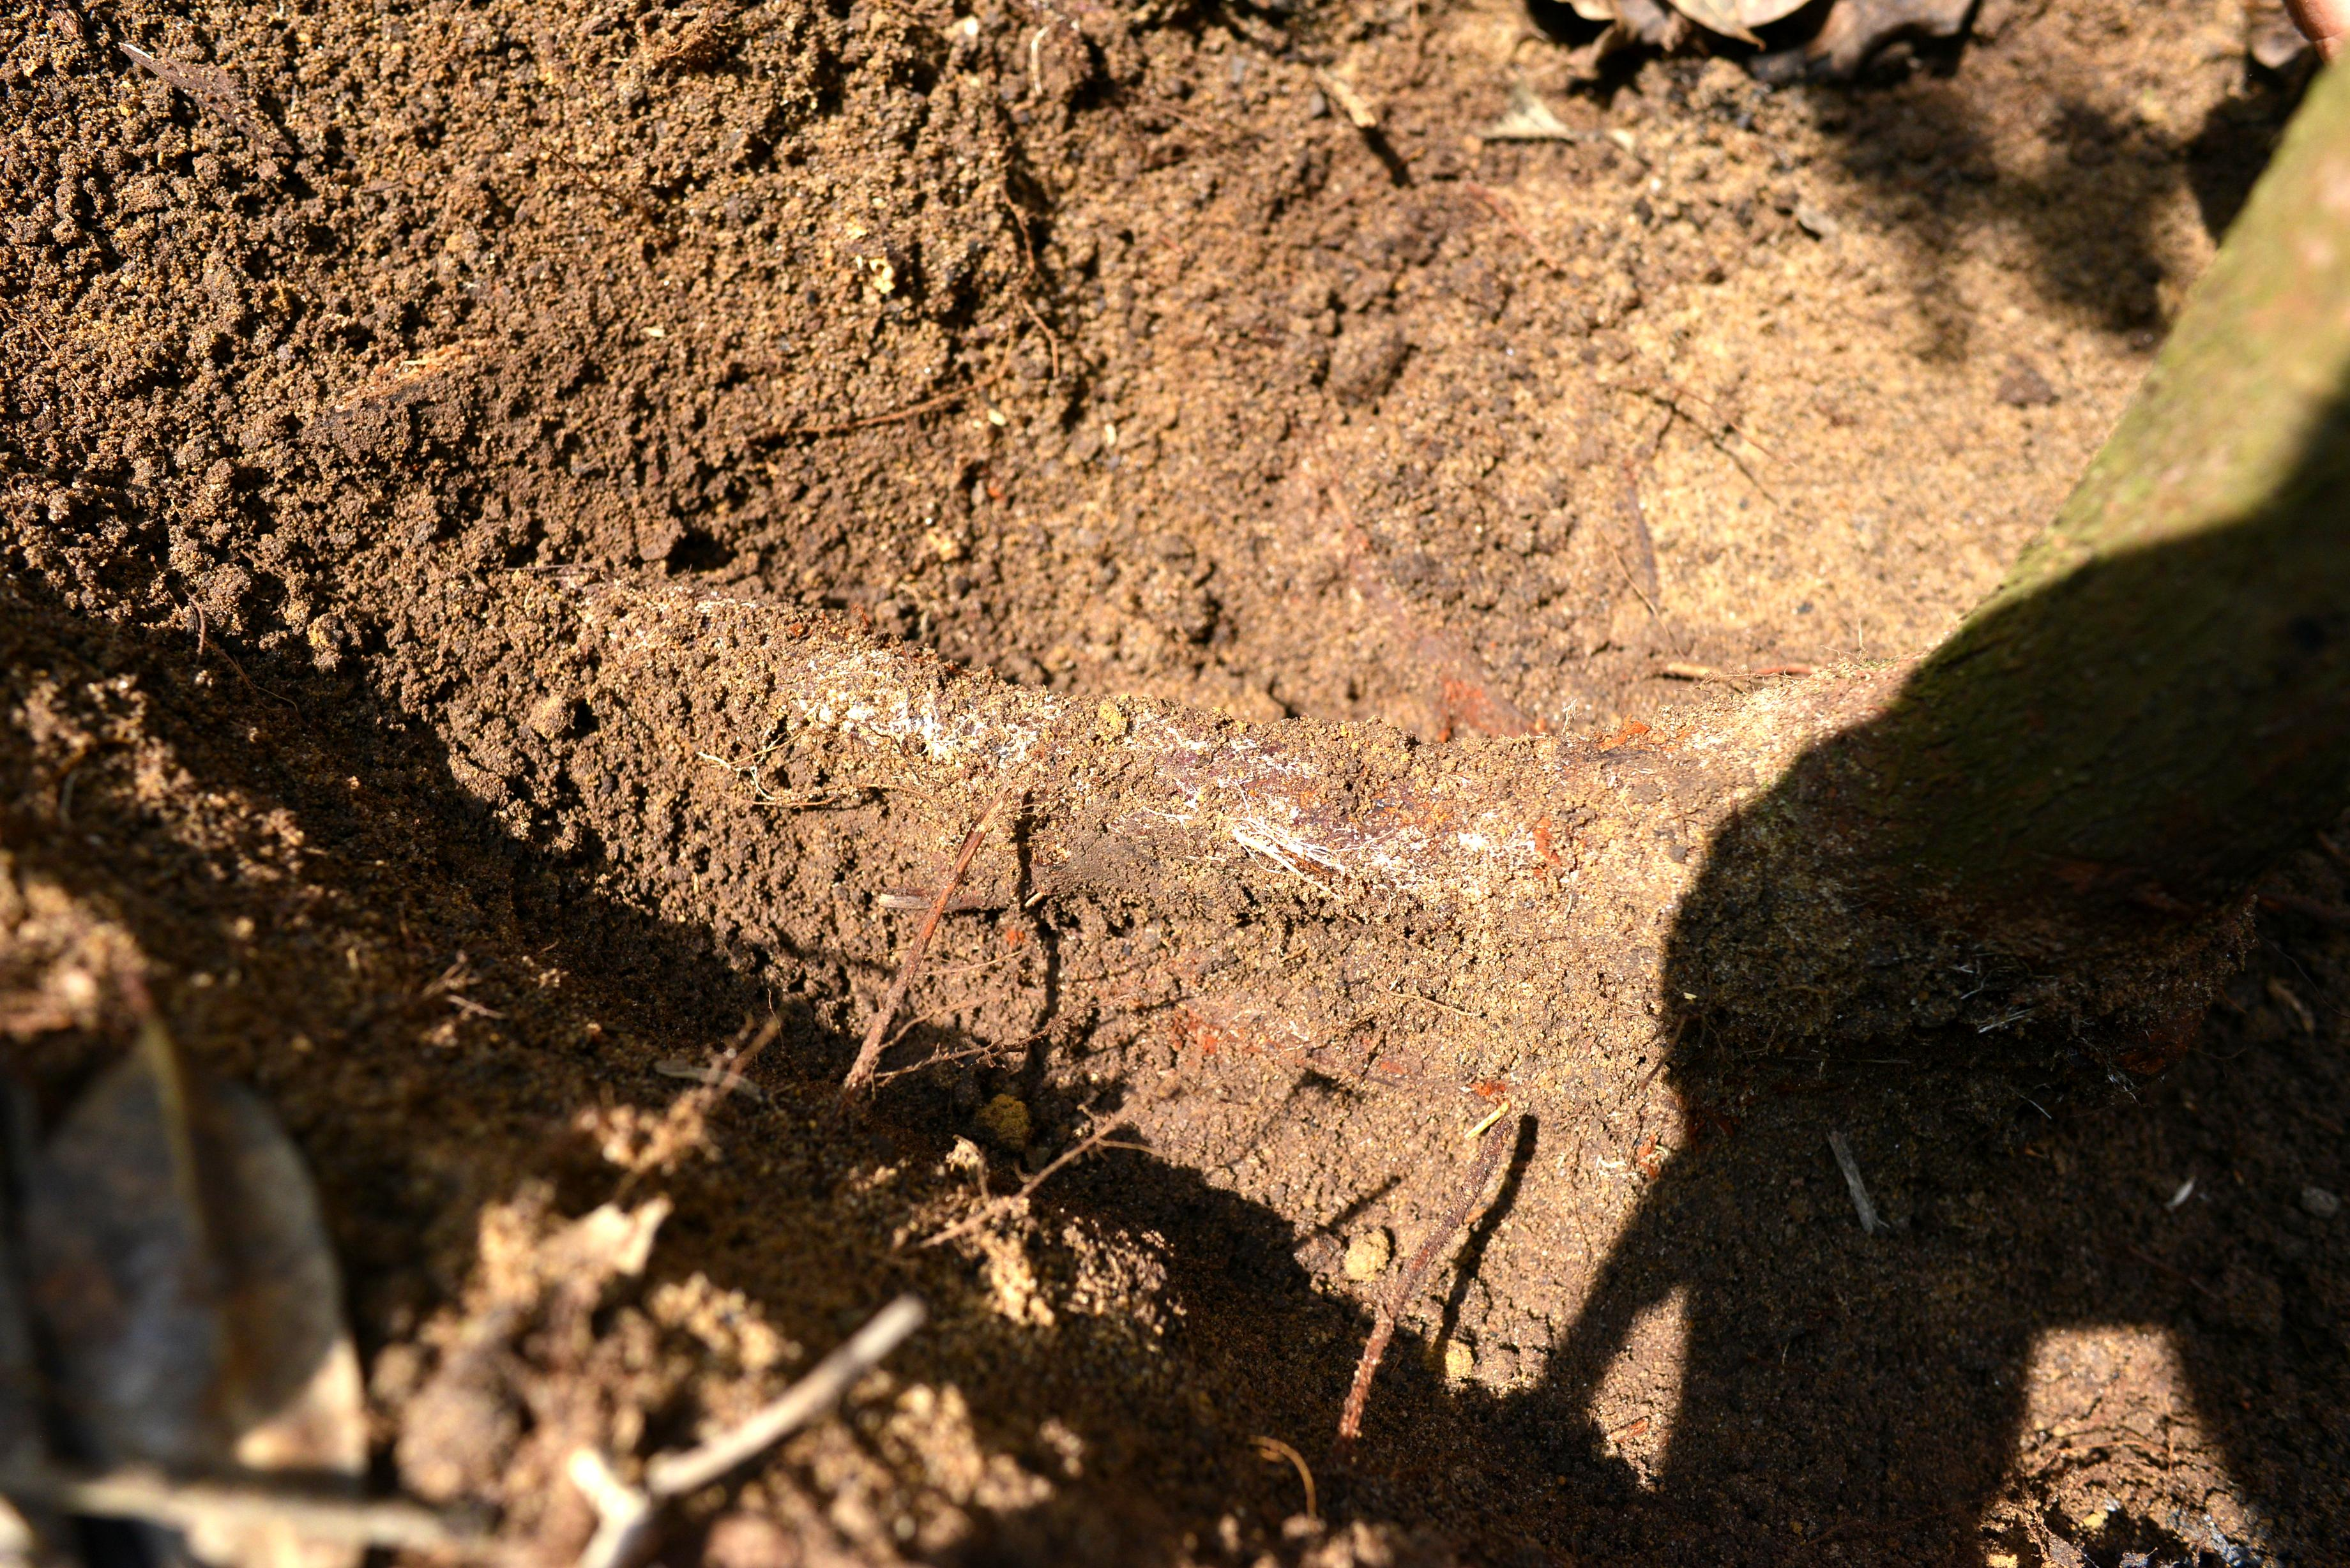Ganoderma - Mycelium: (770, 656, 1573, 887)
